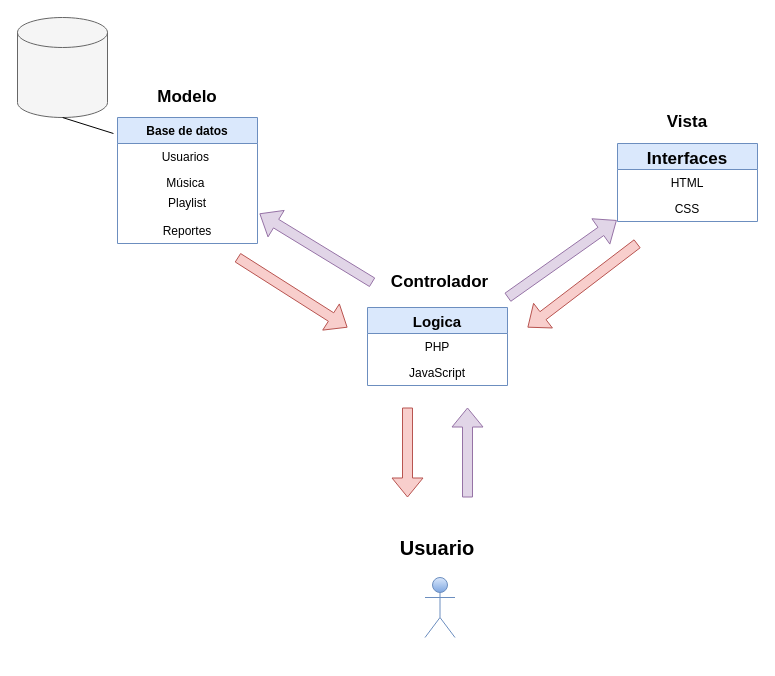
This 775x676 diagram has some shape labels left out. Each missing label, with the centre of its shape:
Actor: point (439, 607)
Php My Admin MySQL: point (62, 67)
